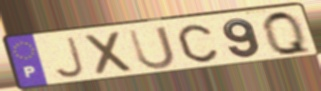9: (221, 16, 264, 61)
C: (175, 23, 221, 64)
J: (52, 36, 87, 80)
Q: (260, 9, 315, 58)
U: (126, 24, 178, 72)
X: (82, 29, 137, 78)
